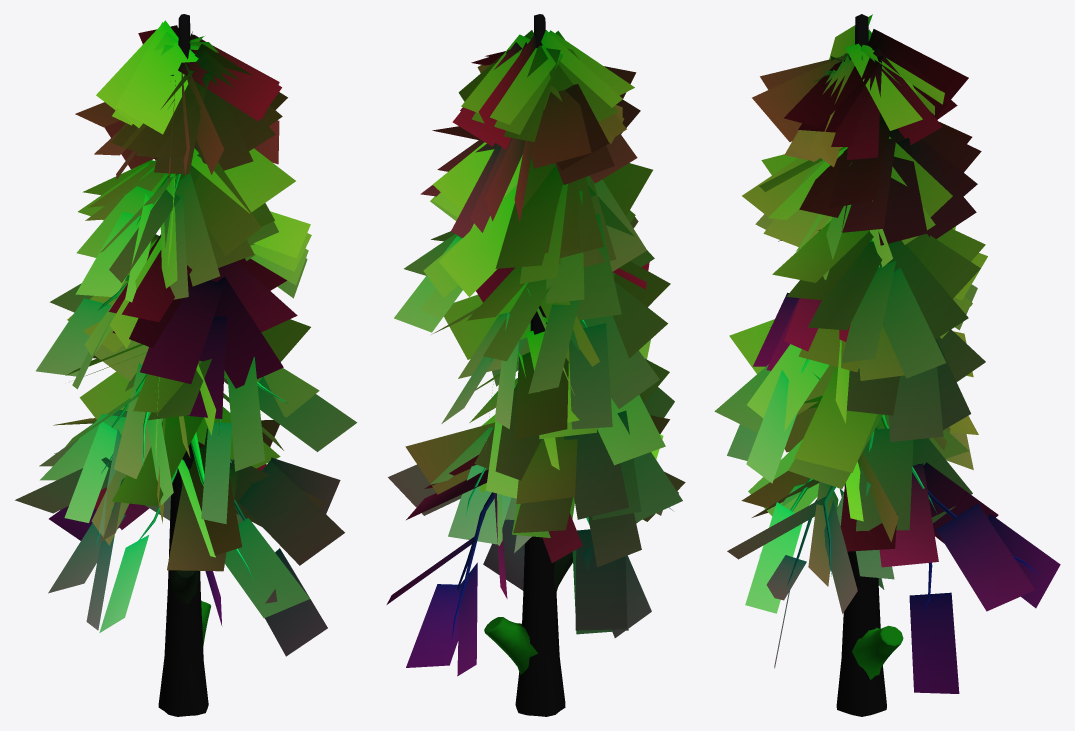
Rendered from M_Pine_3_1.fbx.
3 views of the same model, side by side, from view 1: azimuth 30°, elevation 25°; view 2: azimuth 150°, elevation 25°; view 3: azimuth 270°, elevation 25° (orthographic).
Visible parts, largest first — view 1: Tree_1; view 2: Tree_1; view 3: Tree_1.
Boxes of the visible parts, x1,y1,x2,y2 form: Tree_1: (15, 14, 357, 716); Tree_1: (386, 14, 685, 716); Tree_1: (714, 14, 1060, 716).
Size of the model in its own units: 1515 by 3452 by 1567.
